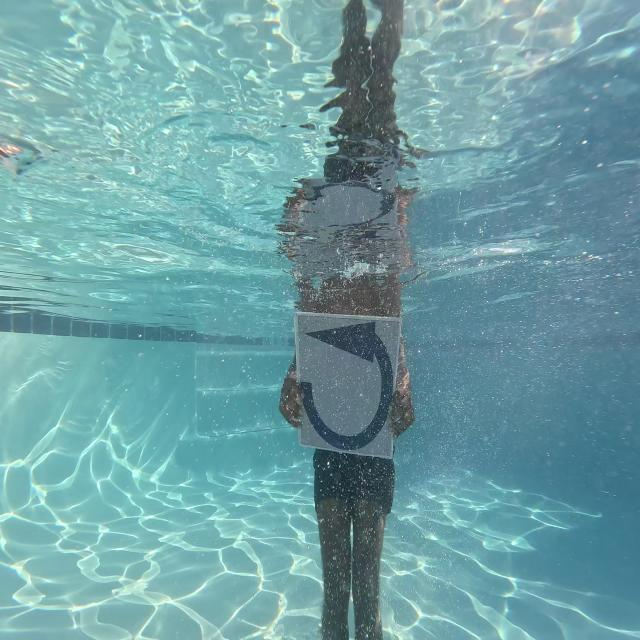blue_side: (295, 310, 398, 456)
